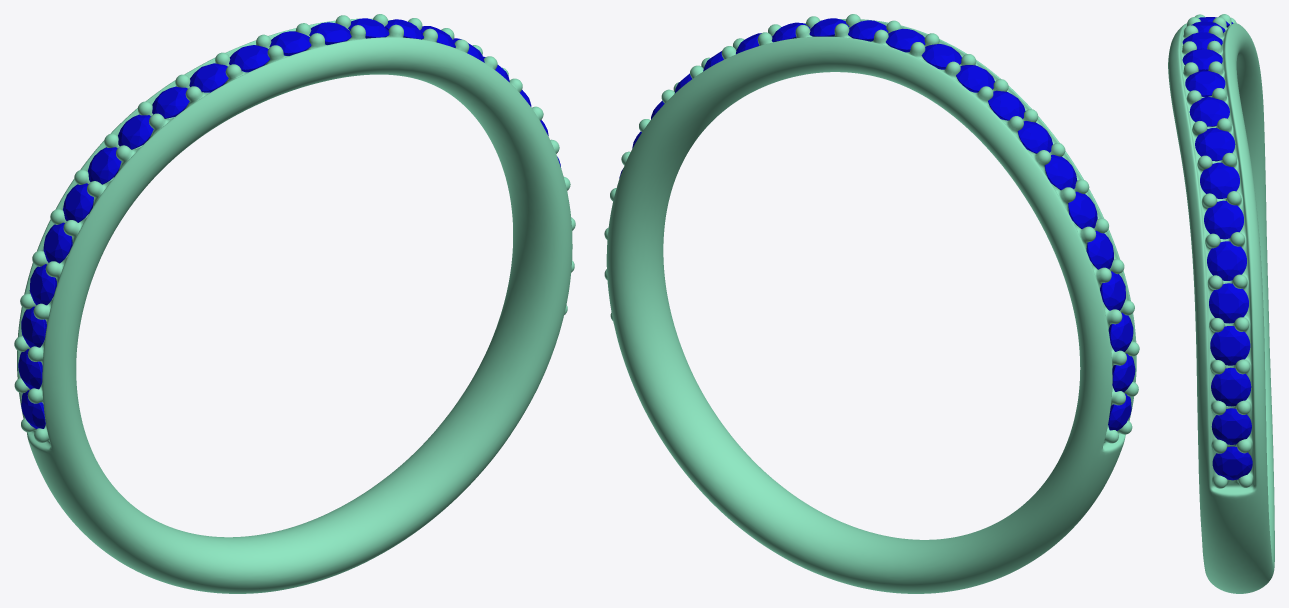
The picture shows the model from 3 angles, left to right: view 1: azimuth 30°, elevation 25°; view 2: azimuth 150°, elevation 25°; view 3: azimuth 270°, elevation 25°; orthographic projection. The views are drawn at different scales.
Visible parts, largest first — view 1: Metal03, Diamond_Band.018, Diamond_Band.019, Diamond_Band.017, Diamond_Band.020, Diamond_Band.016, Diamond_Band.021, Diamond_Band.015, Diamond_Band.022, Diamond_Band.014; view 2: Metal03, Diamond_Band.018, Diamond_Band.019, Diamond_Band.017, Diamond_Band.020, Diamond_Band.016, Diamond_Band.021, Diamond_Band.015, Diamond_Band.022, Diamond_Band.014; view 3: Metal03, Diamond_Band.007, Diamond_Band.008, Diamond_Band.006, Diamond_Band.009, Diamond_Band.005, Diamond_Band.010, Diamond_Band.004, Diamond_Band.011, Diamond_Band.003, Diamond_Band.002, Diamond_Band.001 (+3 smaller).
Part boxes in pixels (bbox=[...]): Metal03: bbox=[14, 14, 575, 593]; Diamond_Band.018: bbox=[88, 147, 121, 184]; Diamond_Band.019: bbox=[118, 114, 153, 149]; Diamond_Band.017: bbox=[63, 183, 93, 222]; Diamond_Band.020: bbox=[152, 86, 189, 118]; Diamond_Band.016: bbox=[43, 222, 72, 263]; Diamond_Band.021: bbox=[189, 63, 228, 92]; Diamond_Band.015: bbox=[29, 264, 56, 305]; Diamond_Band.022: bbox=[229, 45, 269, 72]; Diamond_Band.014: bbox=[21, 306, 46, 347]; Metal03: bbox=[604, 14, 1139, 593]; Diamond_Band.018: bbox=[1044, 154, 1077, 190]; Diamond_Band.019: bbox=[1017, 121, 1052, 153]; Diamond_Band.017: bbox=[1068, 191, 1097, 228]; Diamond_Band.020: bbox=[988, 90, 1025, 120]; Diamond_Band.016: bbox=[1086, 230, 1113, 269]; Diamond_Band.021: bbox=[956, 65, 994, 92]; Diamond_Band.015: bbox=[1100, 271, 1125, 310]; Diamond_Band.022: bbox=[921, 44, 961, 69]; Diamond_Band.014: bbox=[1108, 312, 1133, 351]; Metal03: bbox=[1168, 14, 1274, 593]; Diamond_Band.007: bbox=[1209, 283, 1248, 323]; Diamond_Band.008: bbox=[1210, 326, 1250, 365]; Diamond_Band.006: bbox=[1207, 241, 1246, 280]; Diamond_Band.009: bbox=[1211, 367, 1251, 406]; Diamond_Band.005: bbox=[1204, 200, 1243, 239]; Diamond_Band.010: bbox=[1211, 408, 1251, 444]; Diamond_Band.004: bbox=[1200, 162, 1239, 198]; Diamond_Band.011: bbox=[1212, 446, 1252, 480]; Diamond_Band.003: bbox=[1195, 128, 1235, 161]; Diamond_Band.002: bbox=[1189, 97, 1229, 126]; Diamond_Band.001: bbox=[1185, 70, 1225, 97].
Size of the model in its own units: 21.01 by 20.95 by 3.86.
